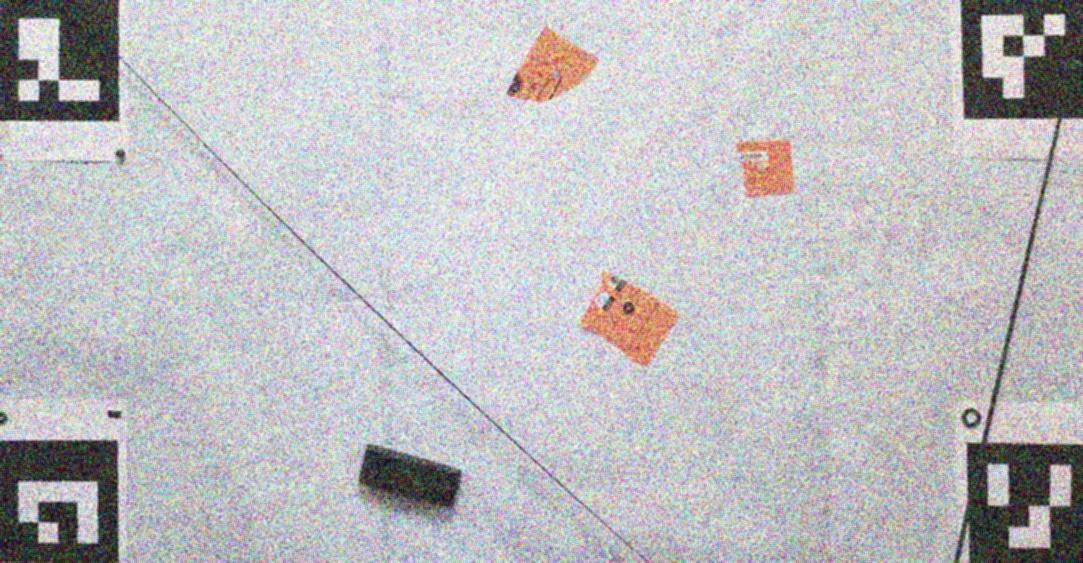obstacle: (577, 272, 677, 367), (503, 27, 598, 105), (360, 445, 461, 510), (736, 139, 796, 199)
